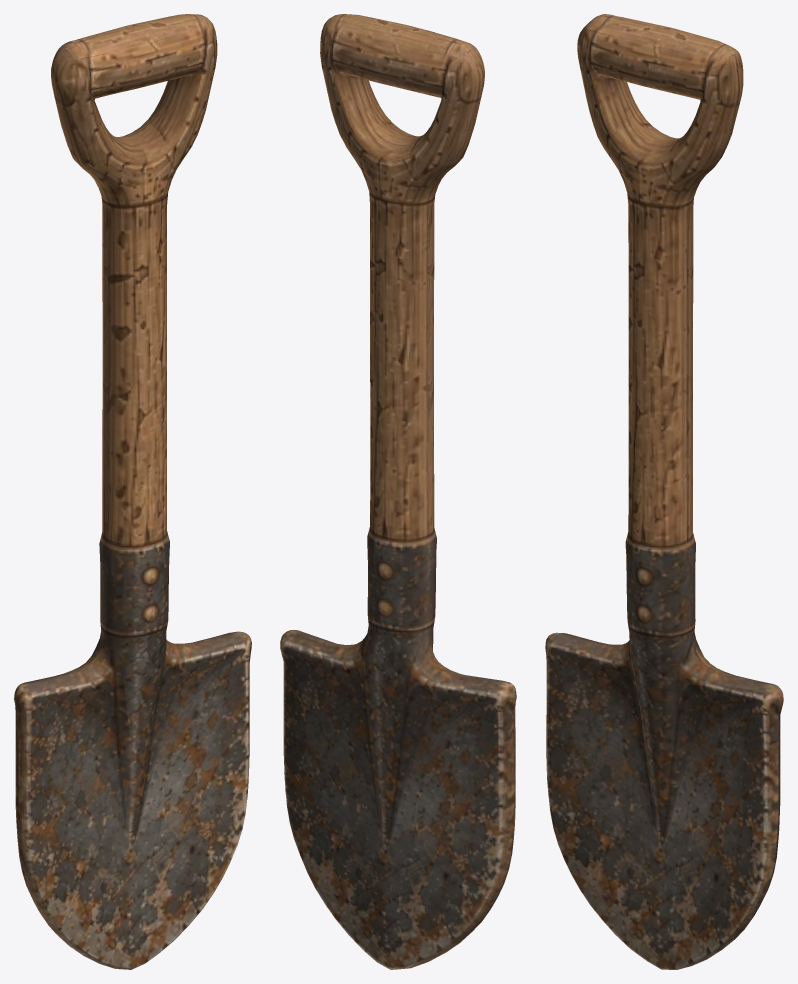
File: shovel-iron.glb
3 renders of one model, left to right at view 1: azimuth 30°, elevation 25°; view 2: azimuth 150°, elevation 25°; view 3: azimuth 330°, elevation 25°, orthographic.
Parts seen in each view (by area): view 1: Mesh0; view 2: Mesh0; view 3: Mesh0.
Part boxes in pixels (x1,y1,x2,y2): Mesh0: (14,14,251,969); Mesh0: (280,14,516,969); Mesh0: (545,14,783,969).
Bounding box in the file's own units: 0.2869 × 1.1 × 0.0748.
Materials: 1 (1 with a texture image).
